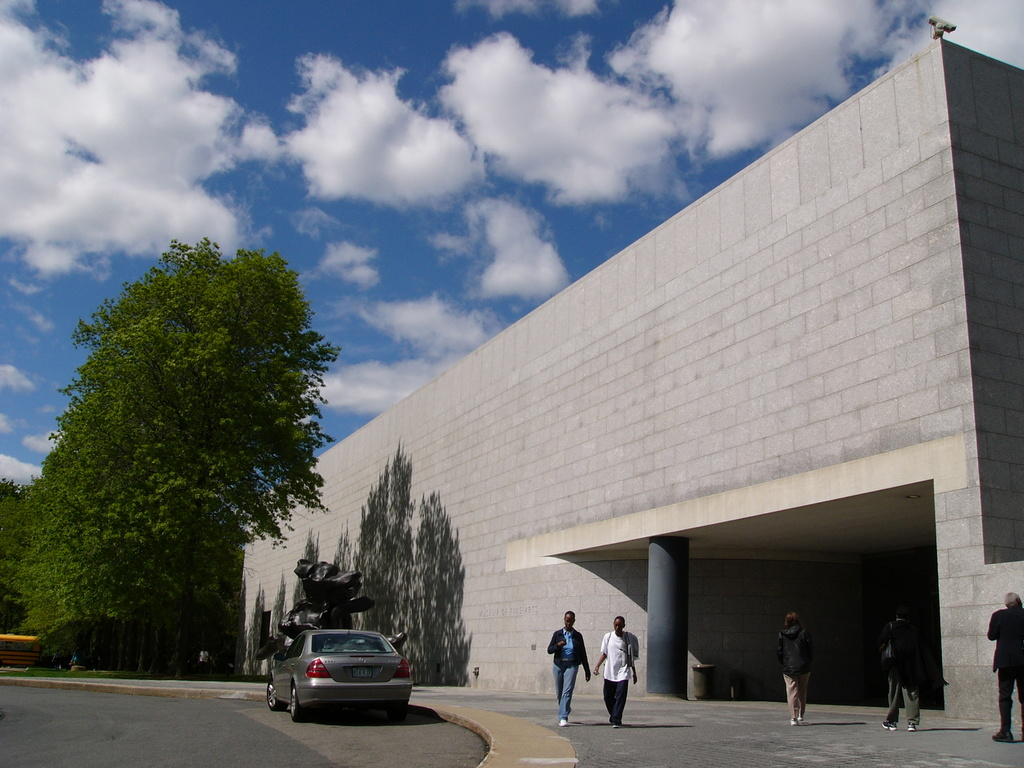Car: (272, 632, 420, 727)
